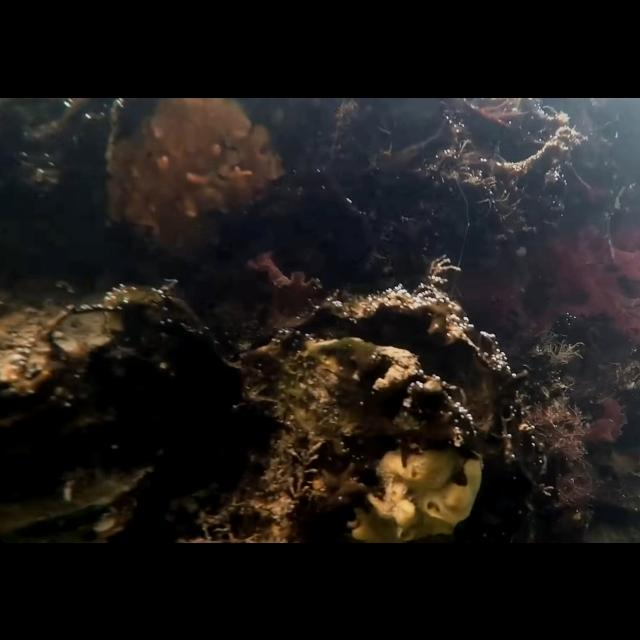Oyster-Closed: (107, 97, 286, 263)
Oyster-Open: (240, 288, 500, 542), (0, 284, 170, 434), (0, 462, 154, 541)
